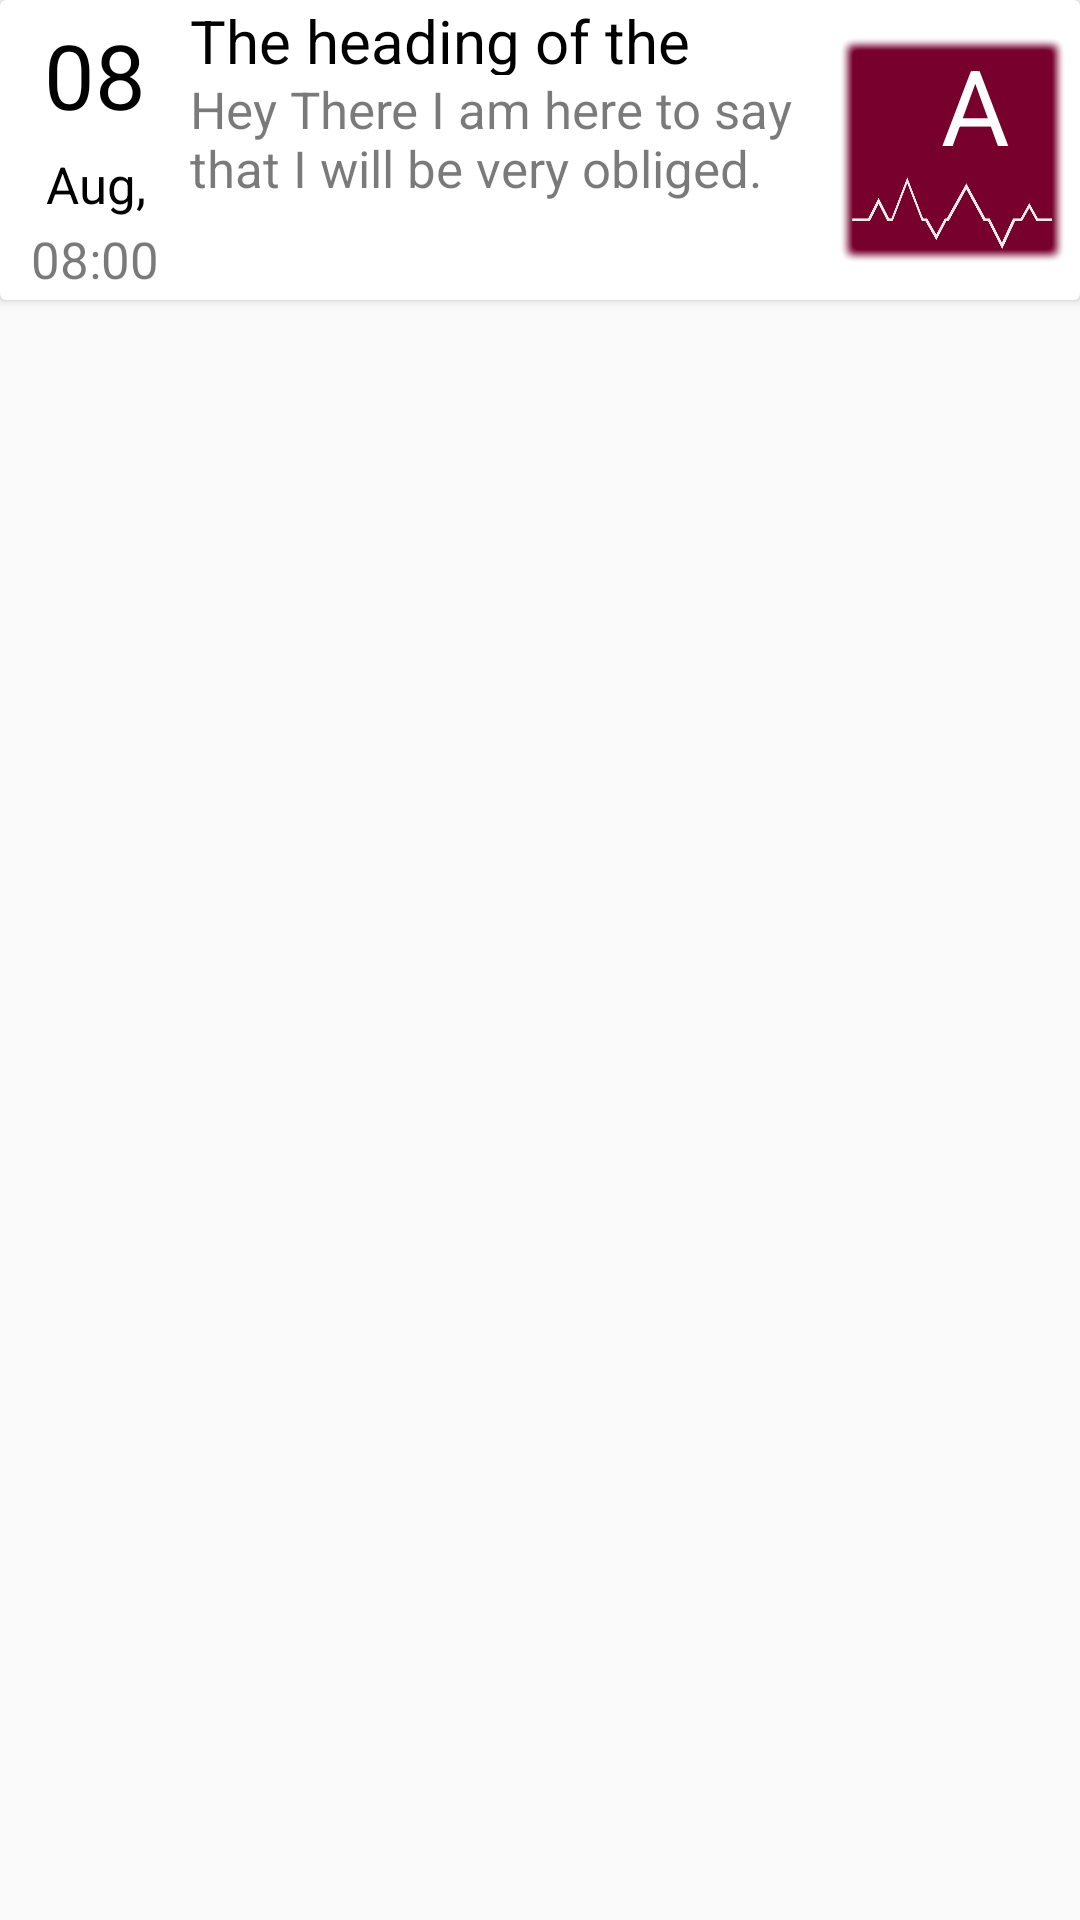

Where to tap for icons on this 1080px×1920px app screen, as [x,y]:
audio tile: [961,130]
